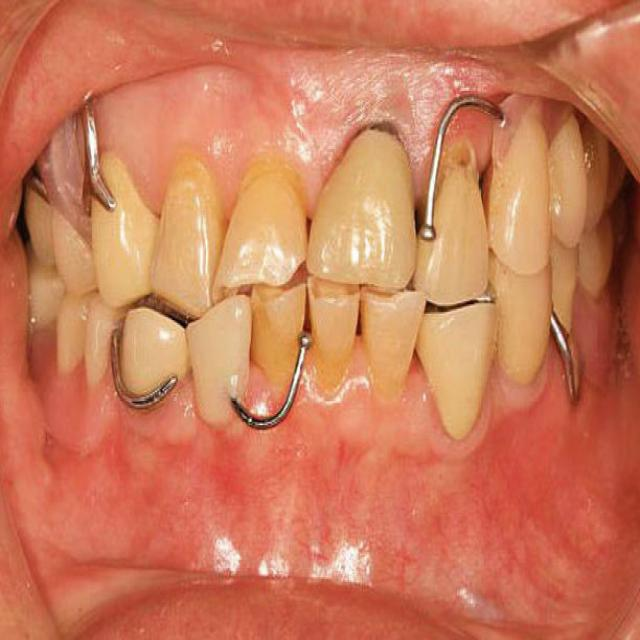caries: (434, 117, 489, 200), (359, 100, 403, 157), (20, 157, 52, 221)
